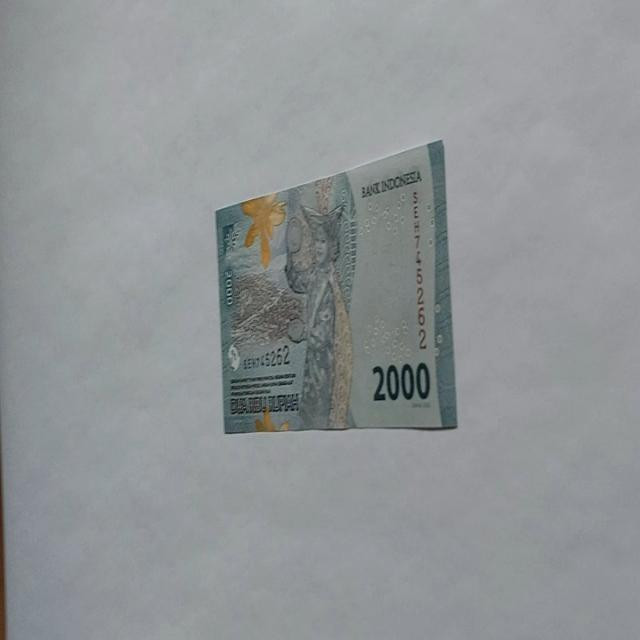dua ribu rupiah: (214, 138, 458, 434), (280, 180, 356, 430)
